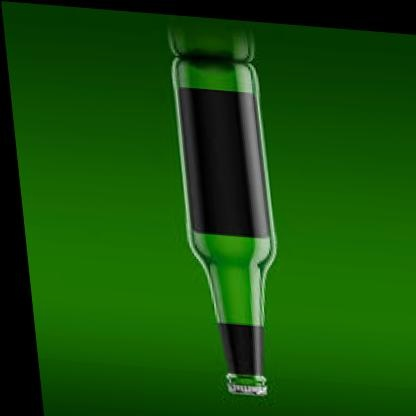trash: (169, 22, 276, 395)
